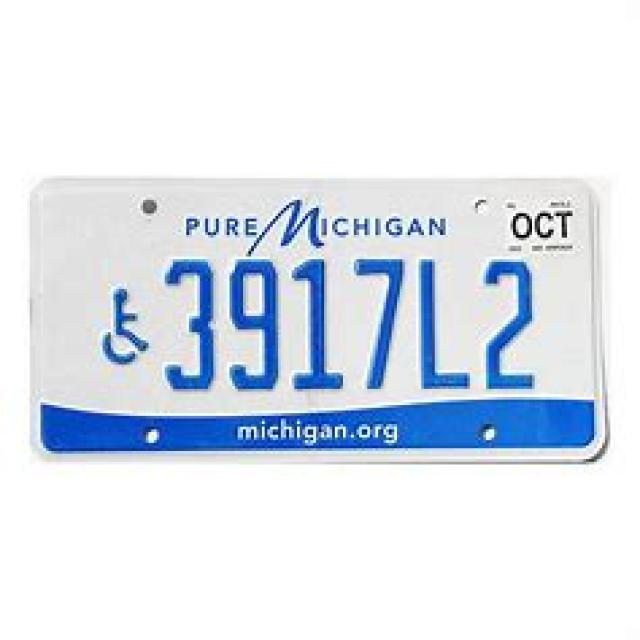car-handicap-placard: (100, 286, 151, 375)
